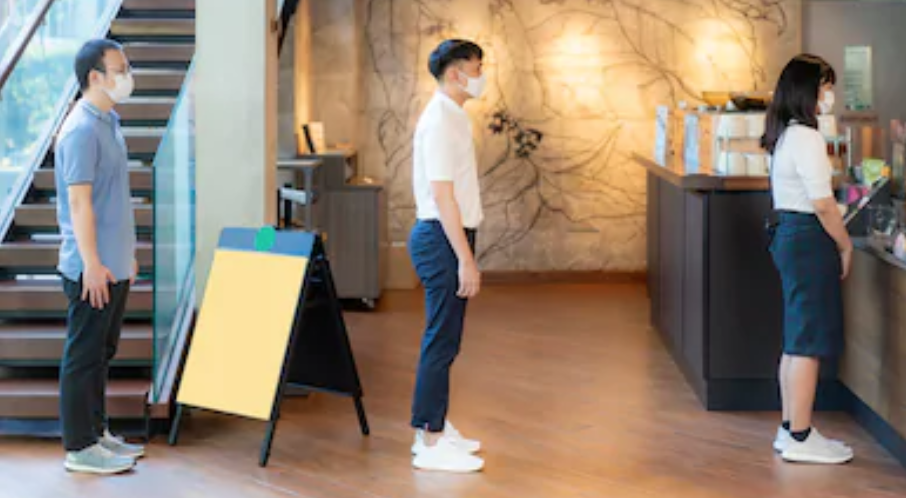Good: (388, 36, 857, 472), (54, 31, 497, 479)
